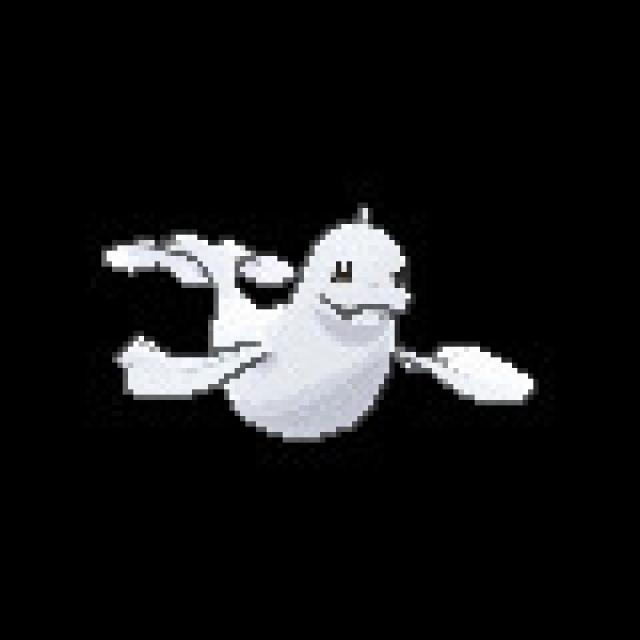Dewgong: (156, 214, 486, 446)
